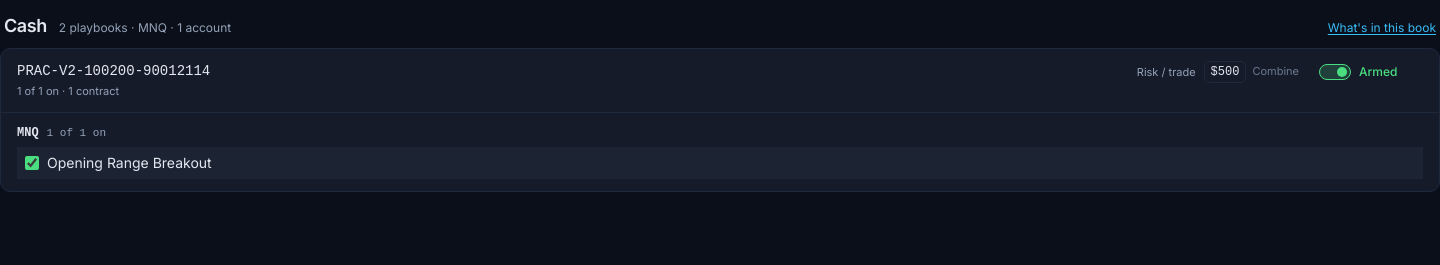
a book's section › expands the read-only definition from What's in this book, and folds it back
Check: the text "Zeta Breakout 30m" is not shown
Click the button "What's in this book": (1382, 28) [1328,20,1436,36]
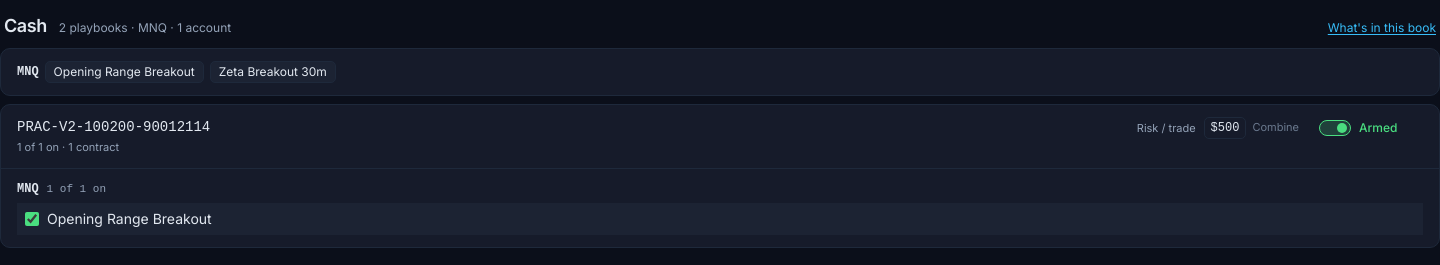
Check: the number of checkboxes is 1, box [25,212,39,226]
Check: the text "Zeta Breakout 30m" is shown, box [210,61,336,83]
Click the button "What's in this book": (1382, 28) [1328,20,1436,36]
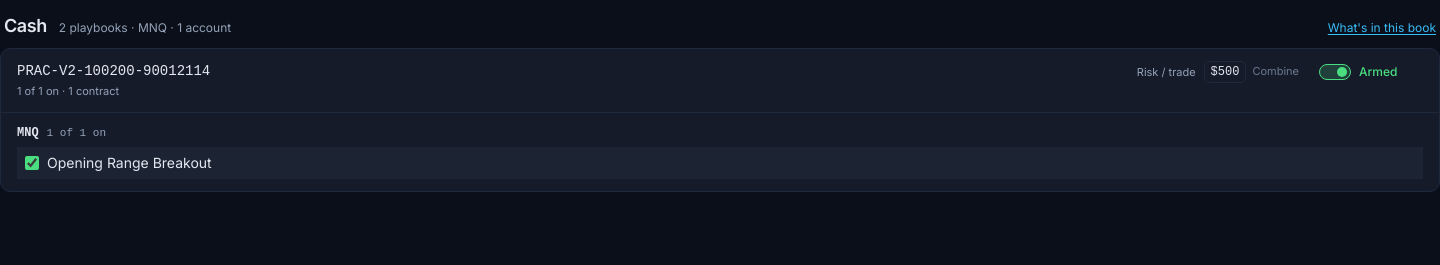
Check: the text "Zeta Breakout 30m" is gone
